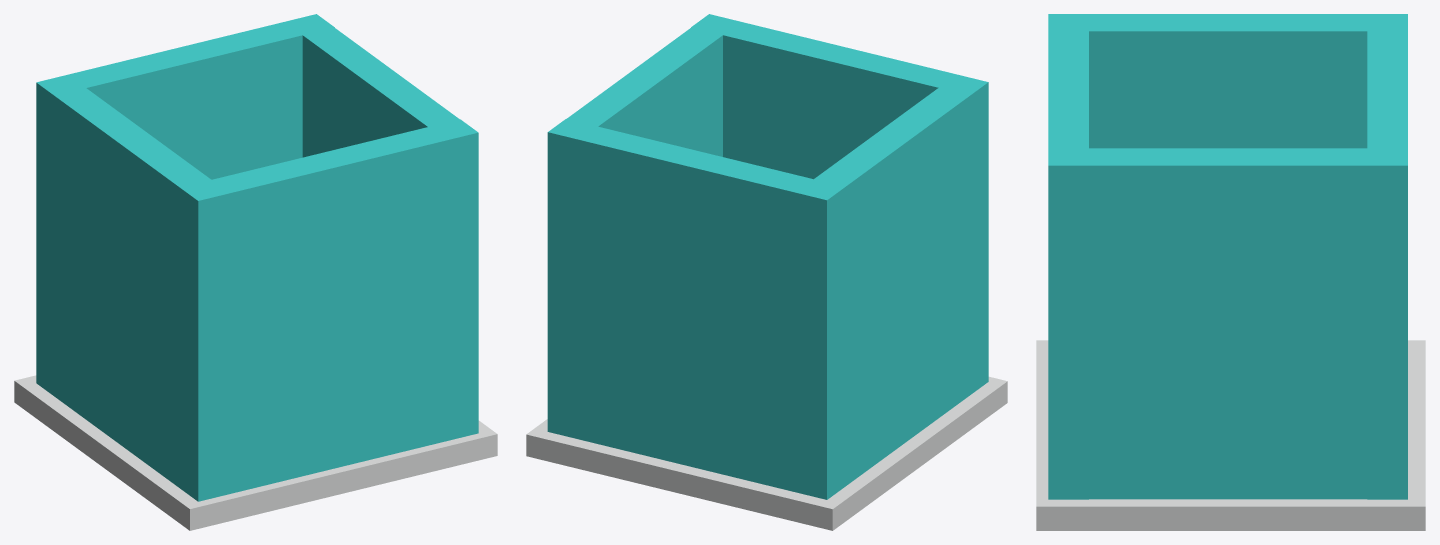
The picture shows the model from 3 angles, left to right: view 1: azimuth 30°, elevation 25°; view 2: azimuth 150°, elevation 25°; view 3: azimuth 270°, elevation 25°; orthographic projection. The views are drawn at different scales.
Parts seen in each view (by area): view 1: tek_duvar23; view 2: tek_duvar23; view 3: tek_duvar23.
Part boxes in pixels (x1,y1,x2,y2): tek_duvar23: (14, 14, 497, 530); tek_duvar23: (526, 14, 1007, 530); tek_duvar23: (1036, 14, 1425, 530).
Size of the model in its own units: 1703 by 1706 by 1683.
